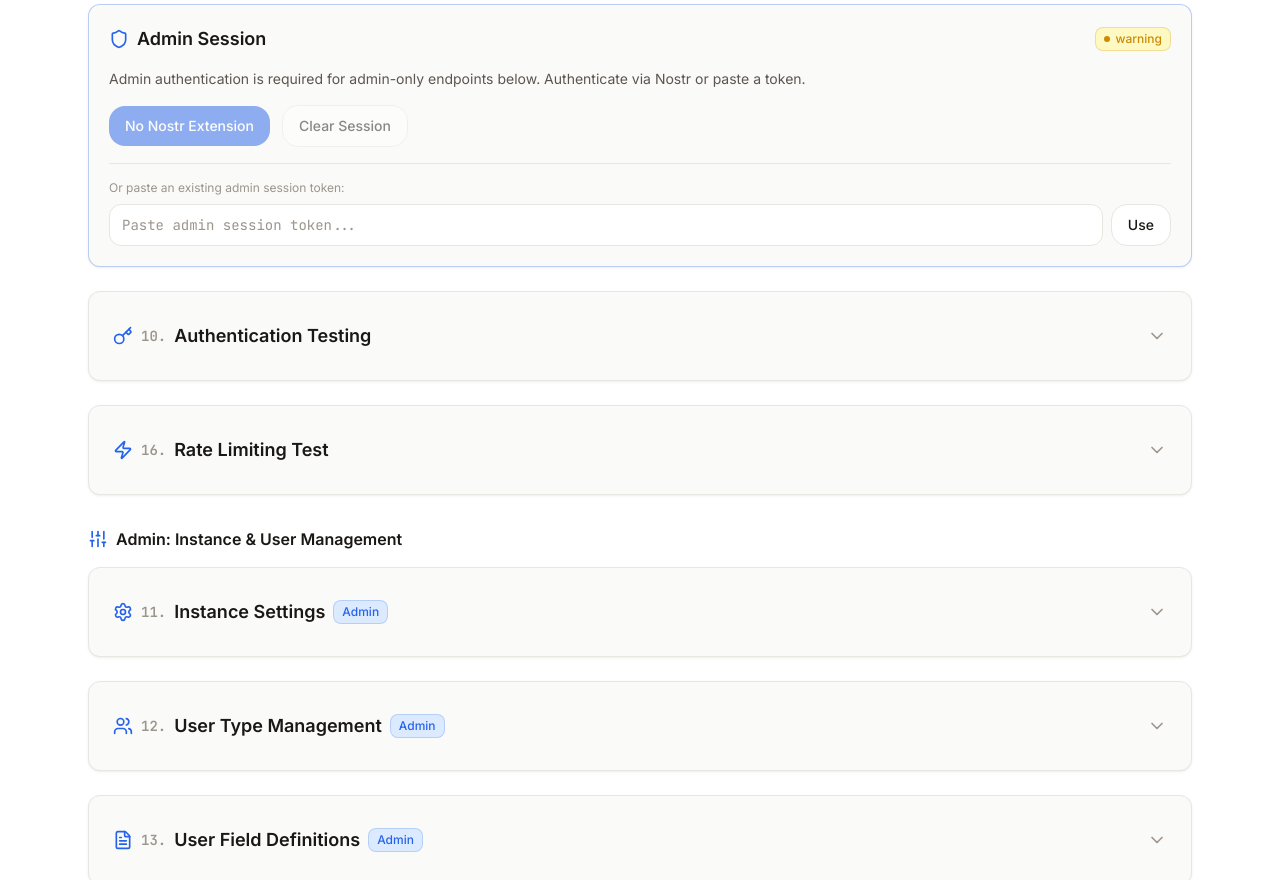
Test case: TestDashboard › keeps migrated dashboard selects labelled and wired to their controls
This screenshot has width=1280, height=880.
(page scrolled)
Click the button "16. Rate Limiting Test" at (251, 450), box [113, 430, 1167, 470]
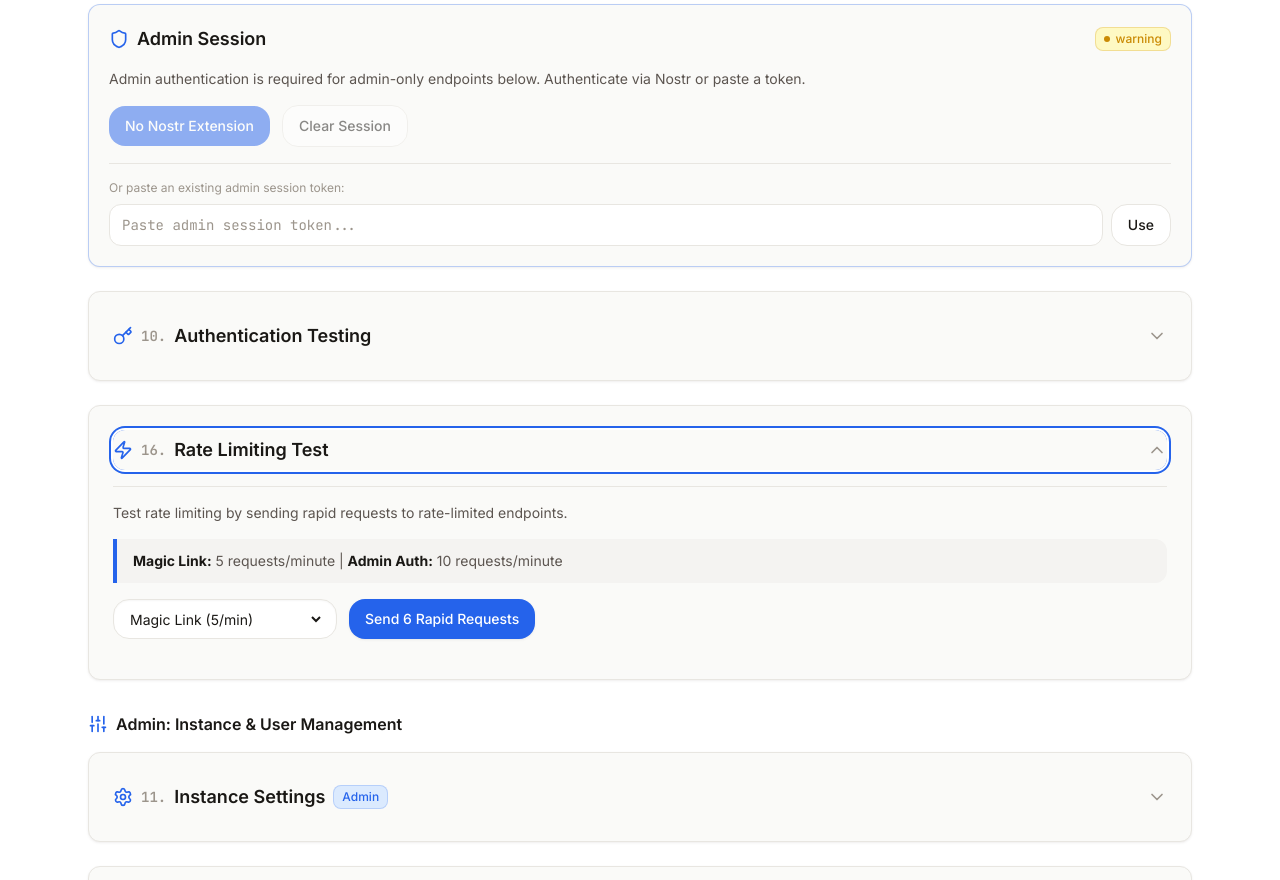
Now the dropdown named "Rate limit test type" shows "Magic Link (5/min)"
Now the button "Send 6 Rapid Requests" is shown, box [349, 599, 535, 639]
Select "Admin Auth (10/min)" in the dropdown named "Rate limit test type" at (225, 619), box [126, 610, 324, 628]
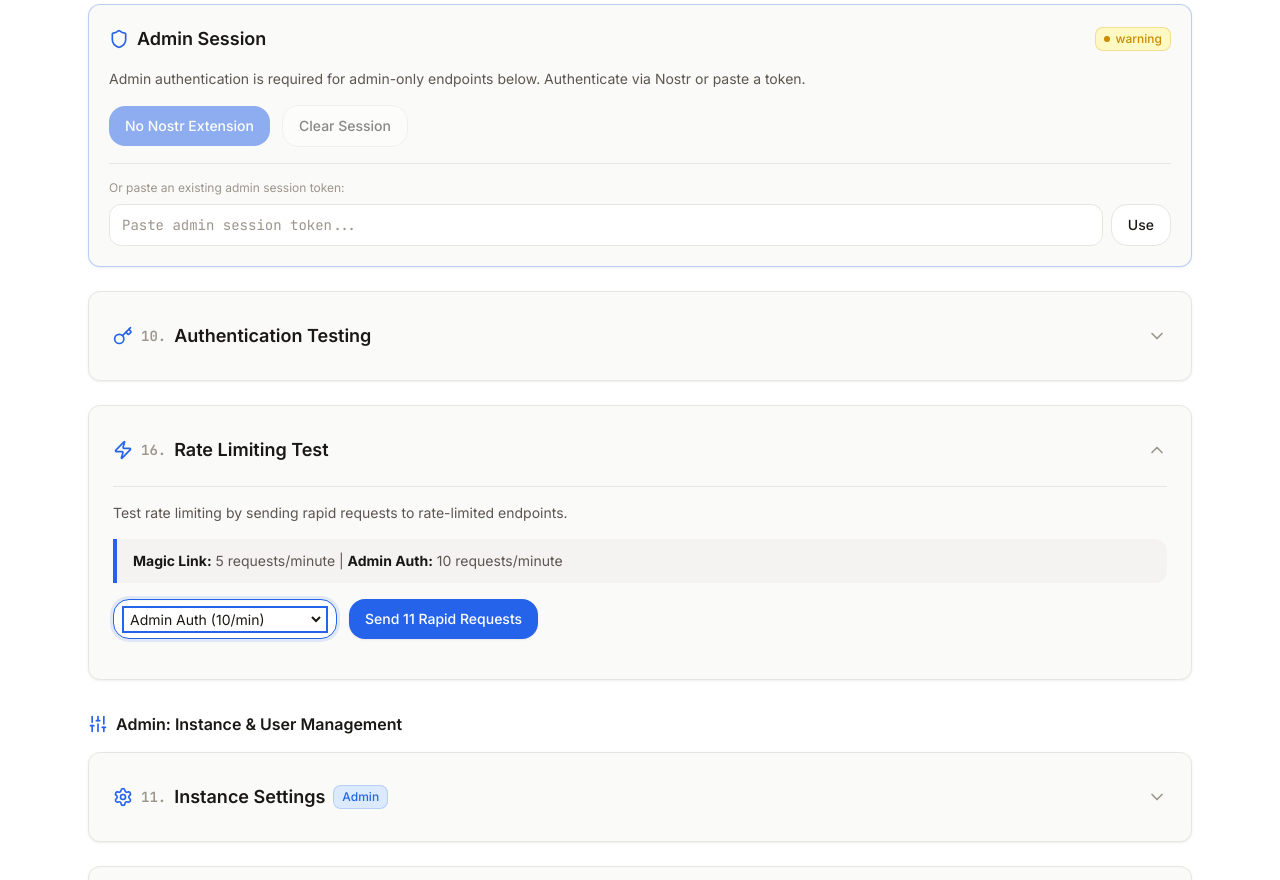
Now the button "Send 11 Rapid Requests" is shown
Click the button "Send 11 Rapid Requests" at (444, 619), box [349, 599, 538, 639]
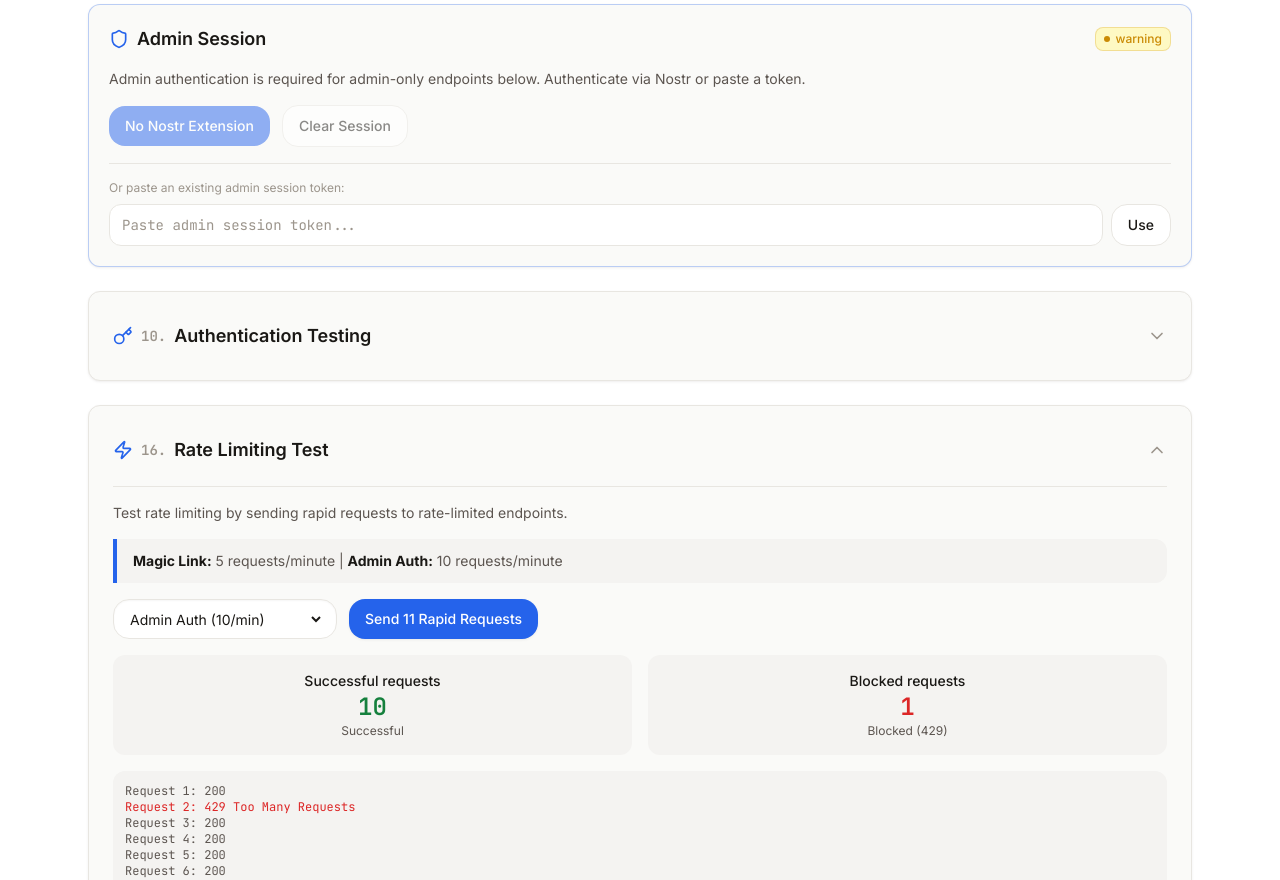
Now the element "Successful requests" shows "10", box [358, 691, 387, 722]
Now the element "Blocked requests" shows "1", box [900, 691, 915, 722]
